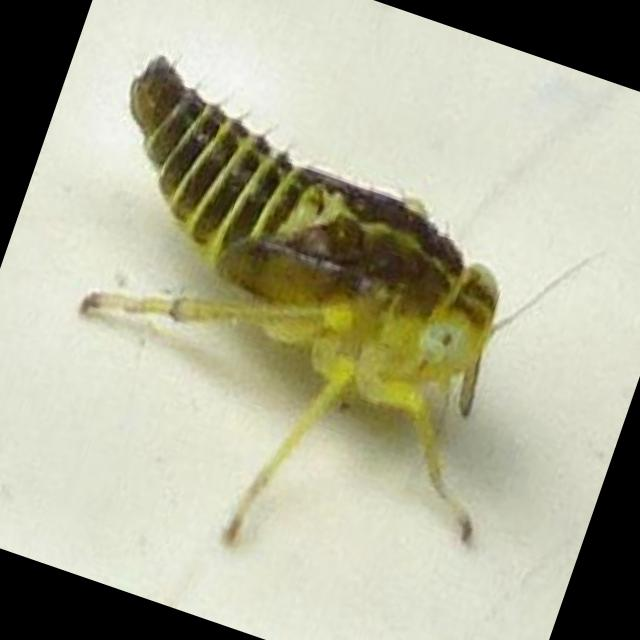green-leafhopper: (45, 41, 553, 494)
